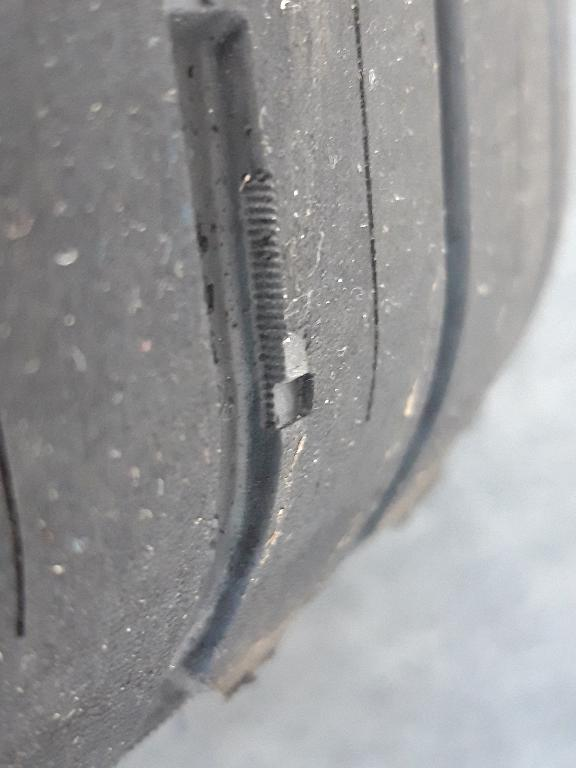temoin:25: (251, 322, 322, 440)
